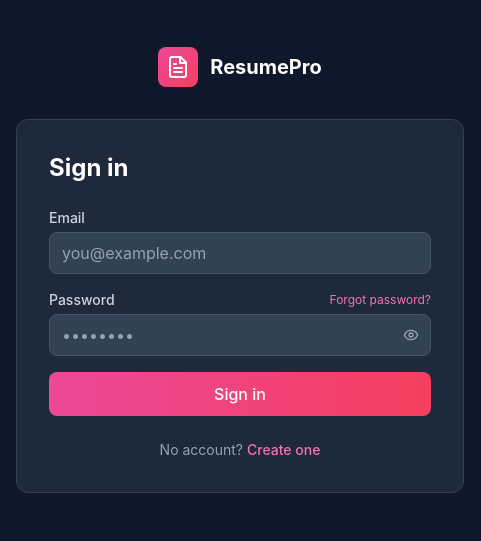
Test: Login page › shows error message on failed sign in
Type "bad@bad.com" into the field with placeholder "you@example.com".
click(240, 253); type("bad@bad.com")  # box [49, 232, 431, 274]
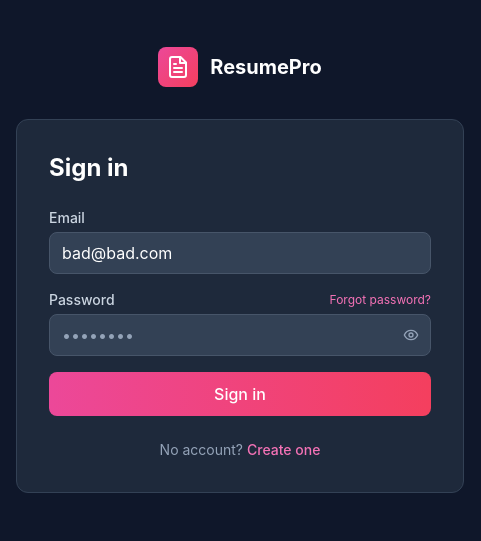
Type "wrongpassword" into the password field with placeholder "••••••••".
click(240, 335); type("wrongpassword")  # box [49, 314, 431, 356]
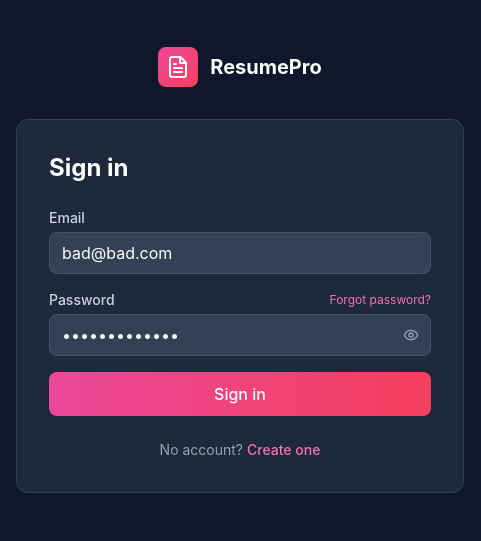
Click the button "Sign in".
click(240, 394)  # box [49, 372, 431, 416]
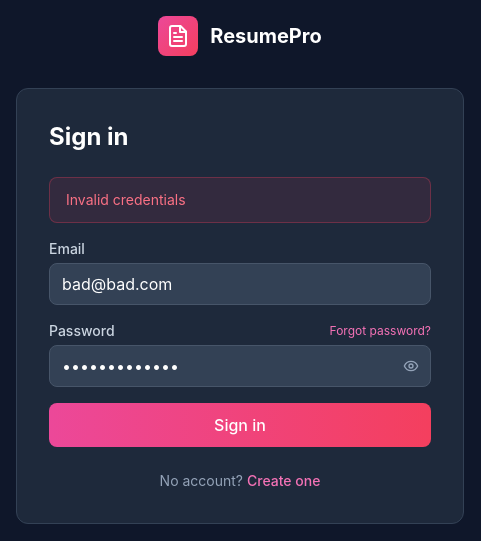
Expected: the text "Invalid credentials" is shown, [49, 177, 431, 223]
